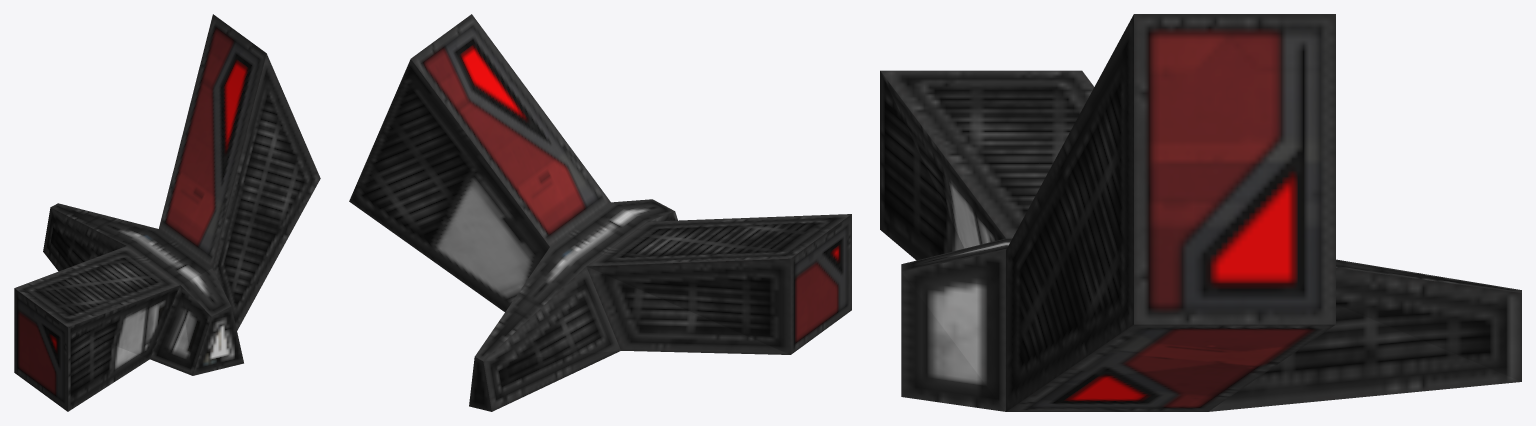
File: BFP_ConstEngineStrut01_UL.FBX
3 views of the same model, side by side, from view 1: azimuth 30°, elevation 25°; view 2: azimuth 150°, elevation 25°; view 3: azimuth 270°, elevation 25° (orthographic). The views are drawn at different scales.
Parts seen in each view (by area): view 1: BFP_ConstEngineStrut01_UL; view 2: BFP_ConstEngineStrut01_UL; view 3: BFP_ConstEngineStrut01_UL.
Boxes of the visible parts, bbox=[...] form: BFP_ConstEngineStrut01_UL: bbox=[14, 14, 320, 411]; BFP_ConstEngineStrut01_UL: bbox=[349, 14, 851, 411]; BFP_ConstEngineStrut01_UL: bbox=[880, 14, 1521, 411].
Size of the model in its own units: 166 by 121 by 153.
1 material, 1 textured.
